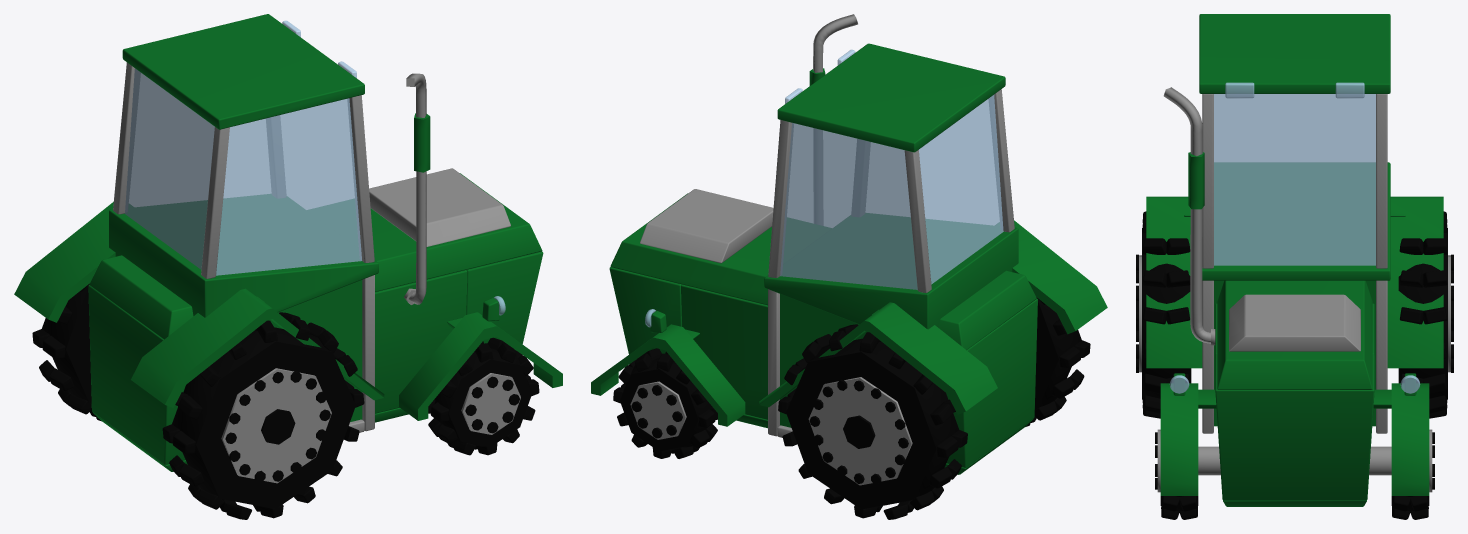
File: Tractors(2).glb
The picture shows the model from 3 angles, left to right: view 1: azimuth 30°, elevation 25°; view 2: azimuth 150°, elevation 25°; view 3: azimuth 270°, elevation 25°; orthographic projection. The views are drawn at different scales.
Parts seen in each view (by area): view 1: Root; view 2: Root; view 3: Root.
Boxes of the visible parts, x1,y1,x2,y2 form: Root: (14, 14, 562, 519); Root: (591, 14, 1107, 519); Root: (1136, 14, 1453, 519).
Bounding box in the file's own units: 4.08 × 3.75 × 2.75.
